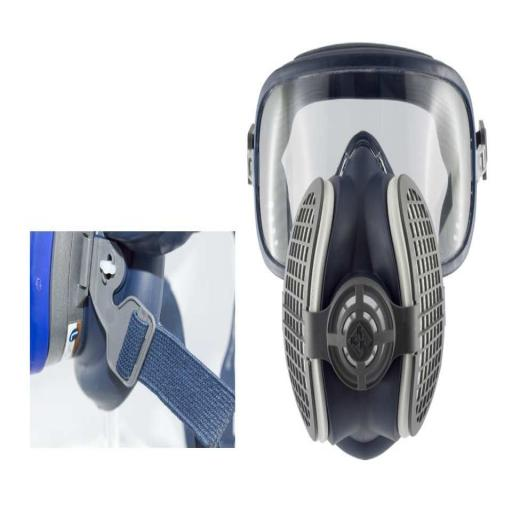mask: (254, 144, 462, 468)
